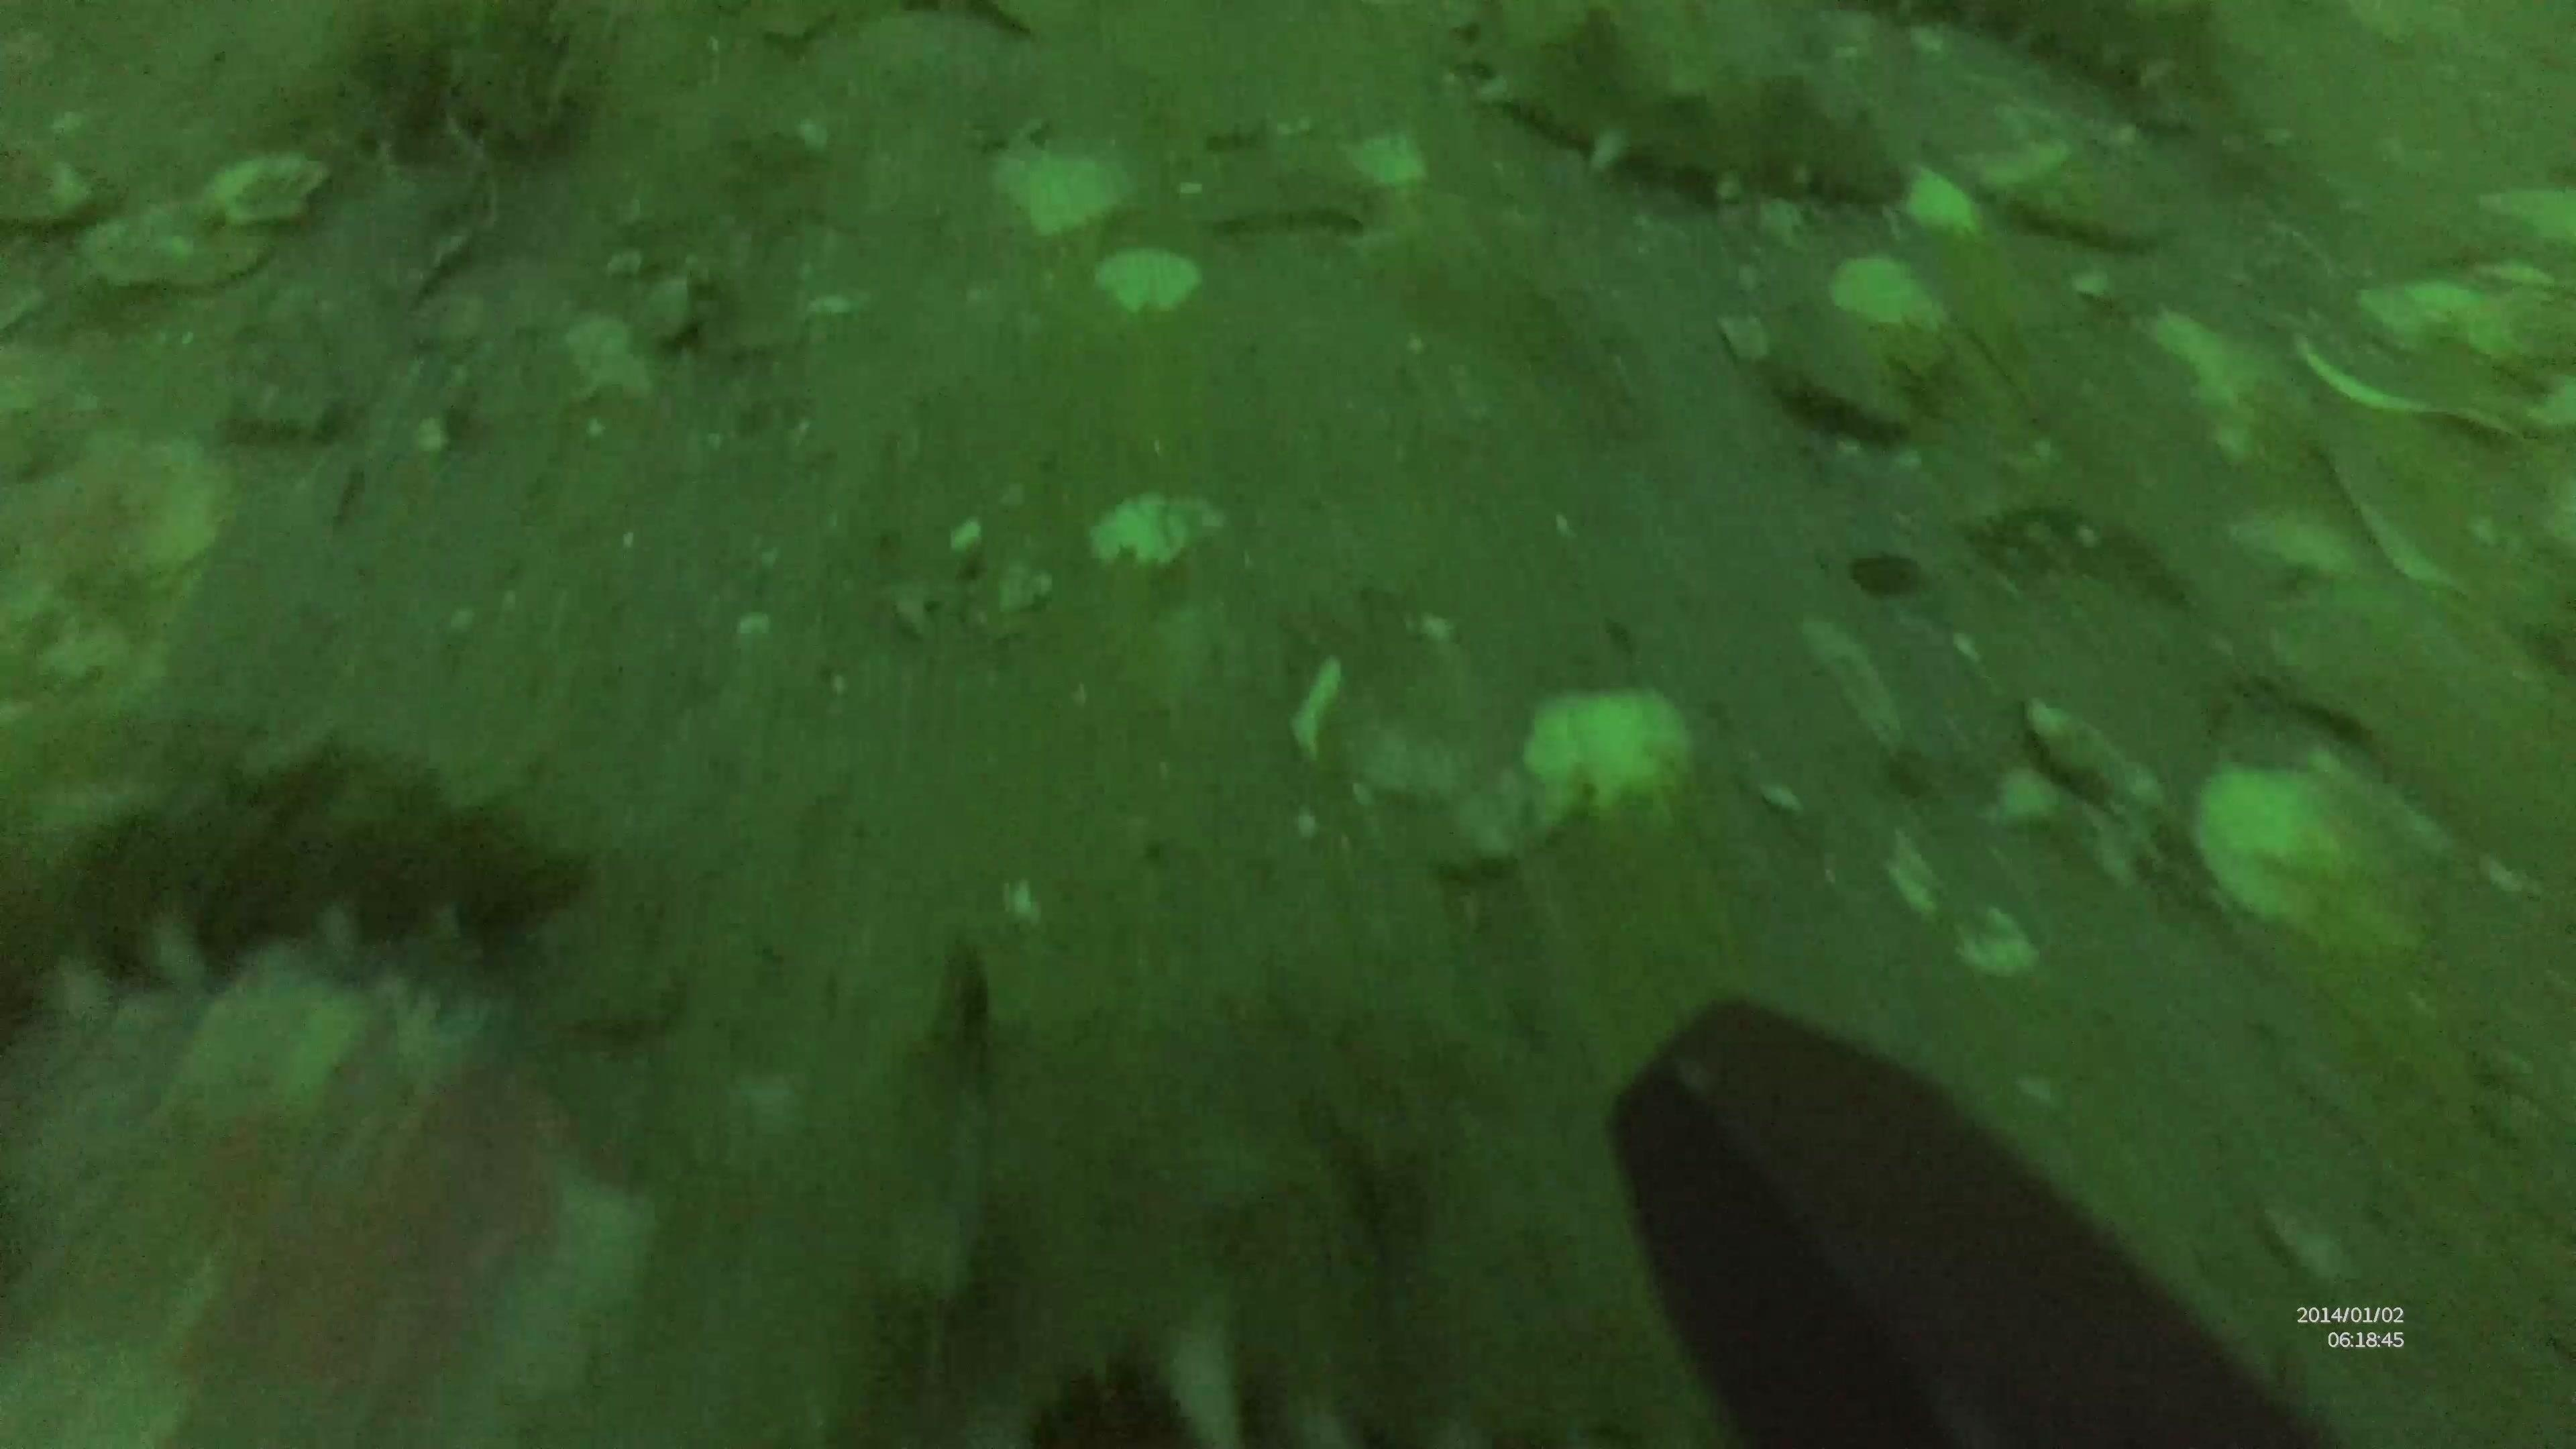holothurian: (4, 734, 586, 1007), (1445, 4, 1914, 219), (1895, 4, 2231, 111)
scallop: (2190, 743, 2452, 964), (1518, 676, 1702, 826)
